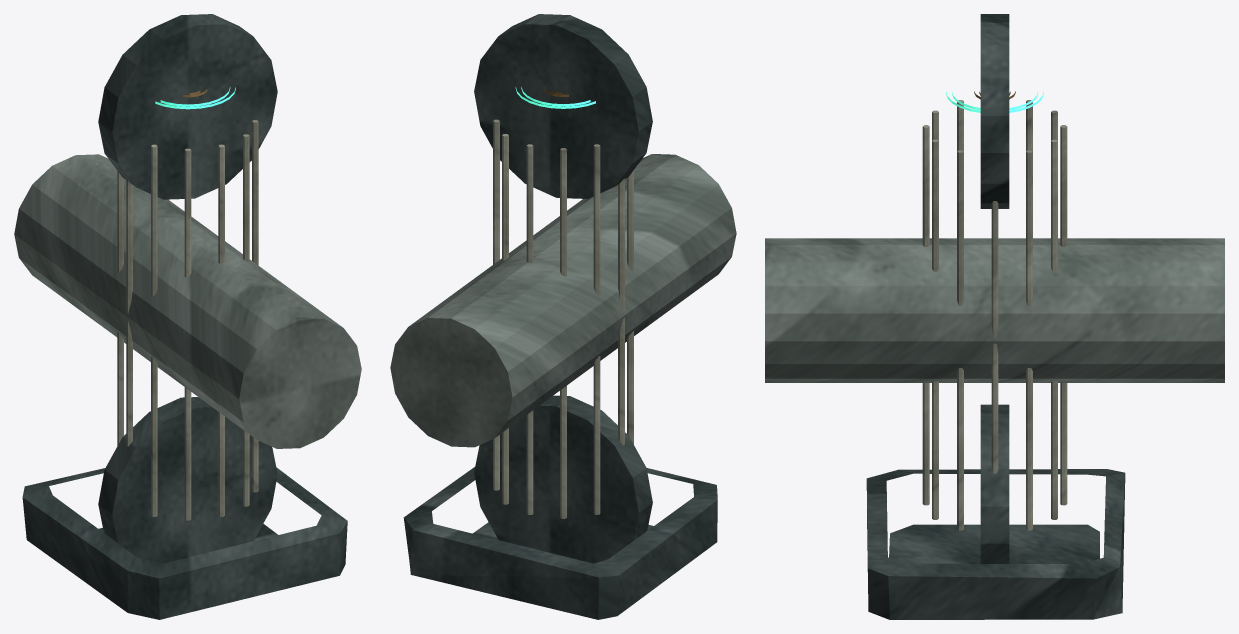
File: 0299_fluted_column_24.glb
The picture shows the model from 3 angles, left to right: view 1: azimuth 30°, elevation 25°; view 2: azimuth 150°, elevation 25°; view 3: azimuth 270°, elevation 25°; orthographic projection. The views are drawn at different scales.
Parts seen in each view (by area): view 1: stone_dark, stone, stone_light; view 2: stone_dark, stone, stone_light; view 3: stone, stone_dark, stone_light.
Part boxes in pixels (x1=…): stone_dark: x1=22, y1=14, x2=347, y2=619; stone: x1=14, y1=154, x2=361, y2=448; stone_light: x1=117, y1=120, x2=258, y2=520; stone_dark: x1=403, y1=14, x2=717, y2=619; stone: x1=390, y1=154, x2=736, y2=447; stone_light: x1=493, y1=119, x2=633, y2=518; stone: x1=765, y1=238, x2=1224, y2=382; stone_dark: x1=866, y1=14, x2=1125, y2=619; stone_light: x1=922, y1=100, x2=1067, y2=530.
Size of the model in its own units: 1.28 by 3.07 by 2.25.
Materials: 5 (5 with a texture image).
